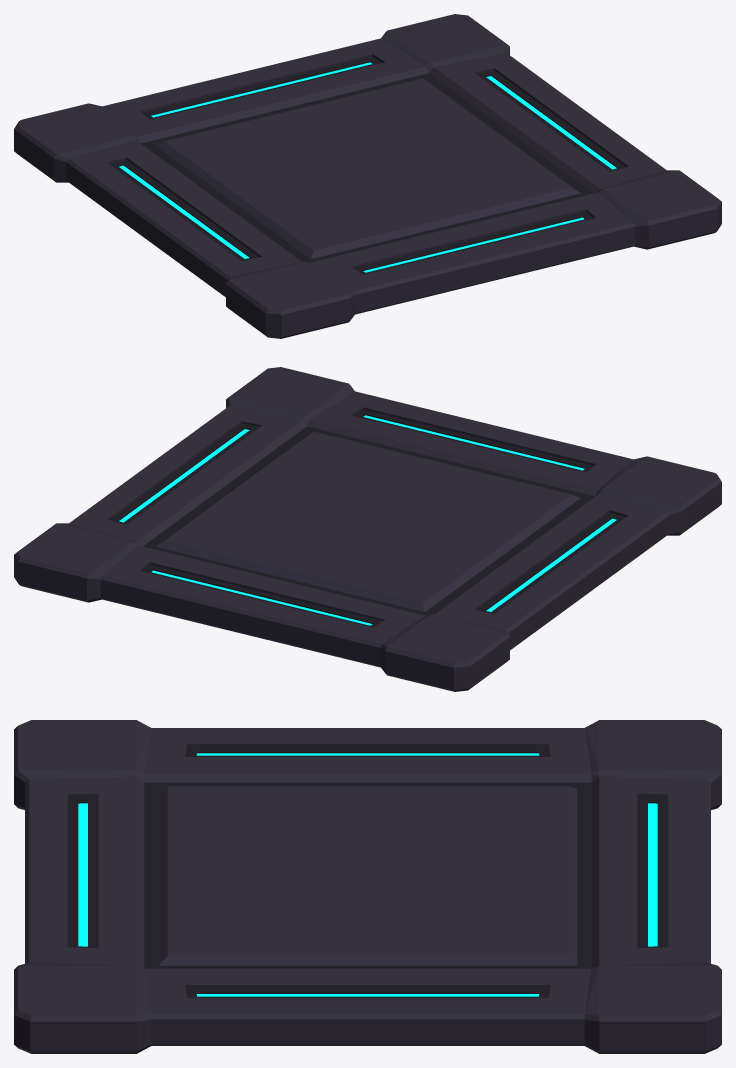
Rendered from floor_light.glb.
The picture shows the model from 3 angles, top to bottom: view 1: azimuth 30°, elevation 25°; view 2: azimuth 150°, elevation 25°; view 3: azimuth 270°, elevation 25°; orthographic projection. The views are drawn at different scales.
Visible parts, largest first — view 1: SM_Sol_Light; view 2: SM_Sol_Light; view 3: SM_Sol_Light.
Part boxes in pixels (left/top/right/bottom): SM_Sol_Light: left=14, top=14, right=721, bottom=338; SM_Sol_Light: left=14, top=367, right=721, bottom=691; SM_Sol_Light: left=14, top=720, right=721, bottom=1053.
Size of the model in its own units: 1 by 0.0598 by 1.
